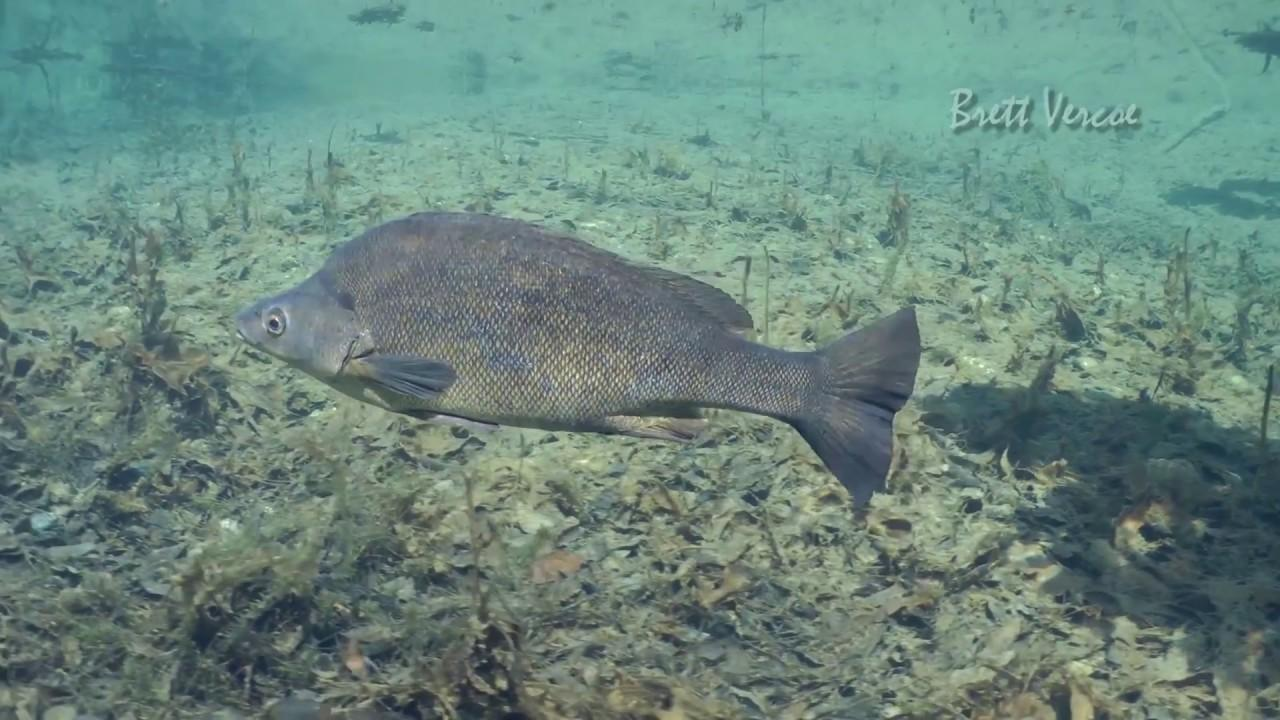Silver Perch: (233, 208, 928, 532)
